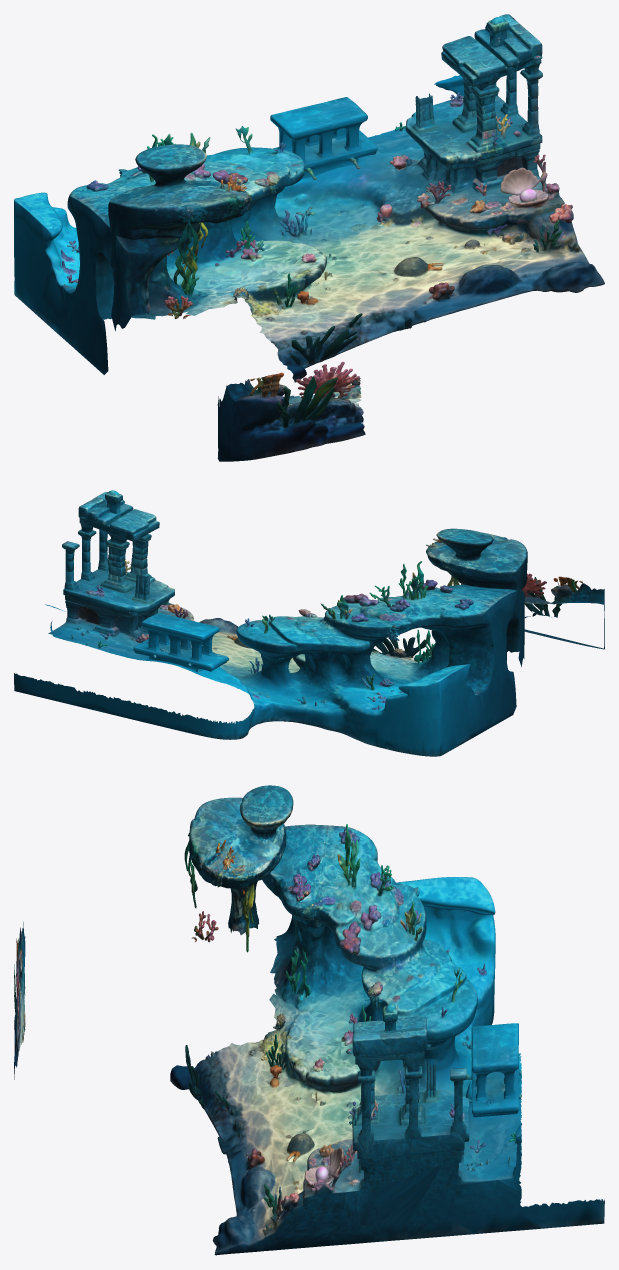
The model's file is reef_ruins.glb.
3 views of the same model, one above another, from view 1: azimuth 30°, elevation 25°; view 2: azimuth 150°, elevation 25°; view 3: azimuth 270°, elevation 25° (orthographic). The views are drawn at different scales.
Parts seen in each view (by area): view 1: Reef_Ruins, Reef_Near_Left; view 2: Reef_Ruins, Reef_Near_Left; view 3: Reef_Ruins, Reef_Near_Left.
Part boxes in pixels (bbox=[...]): Reef_Ruins: bbox=[14, 14, 604, 382]; Reef_Near_Left: bbox=[217, 361, 365, 461]; Reef_Ruins: bbox=[14, 490, 527, 756]; Reef_Near_Left: bbox=[522, 573, 604, 649]; Reef_Ruins: bbox=[170, 785, 604, 1255]; Reef_Near_Left: bbox=[14, 922, 25, 1079].
Size of the model in its own units: 37.54 by 16.36 by 36.55.
1 material, 1 textured.
